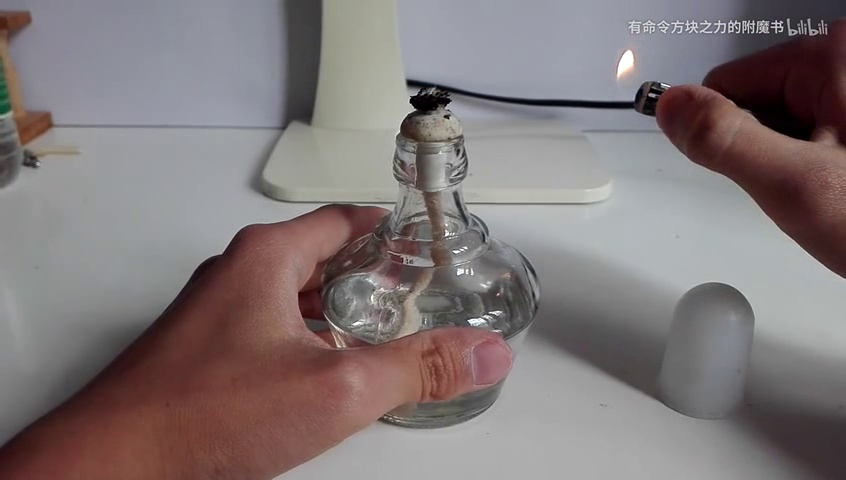fire: (606, 48, 648, 106)
